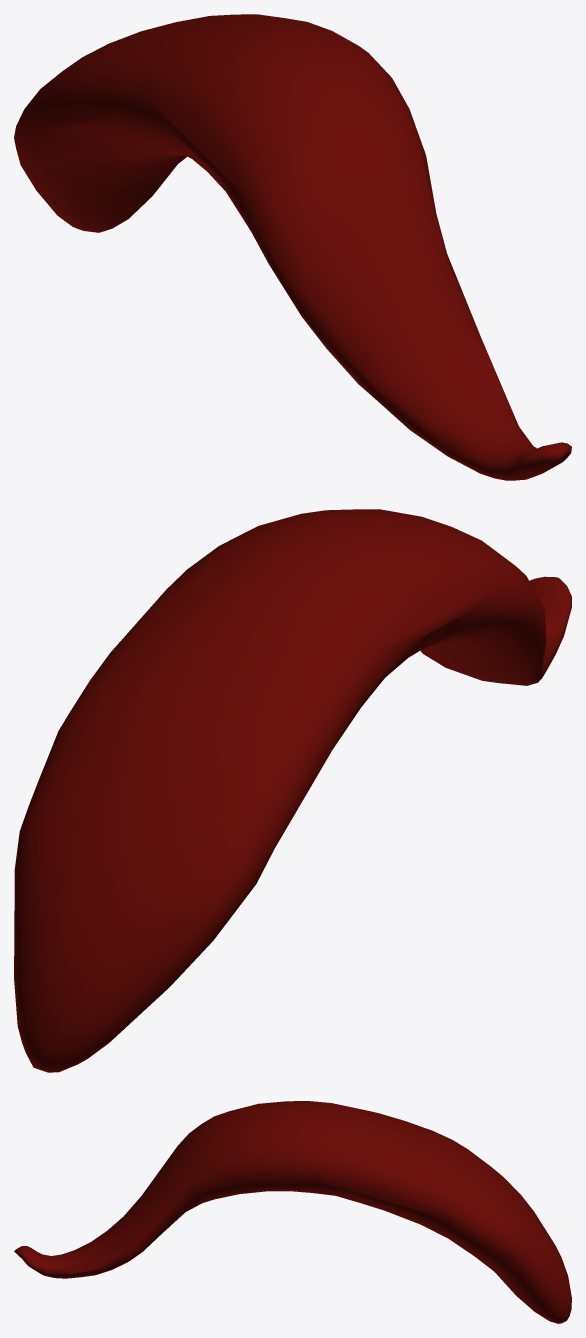
The model's file is tongue.obj.
The picture shows the model from 3 angles, top to bottom: view 1: azimuth 30°, elevation 25°; view 2: azimuth 150°, elevation 25°; view 3: azimuth 270°, elevation 25°; orthographic projection. The views are drawn at different scales.
Visible parts, largest first — view 1: 舌; view 2: 舌; view 3: 舌.
Part boxes in pixels (left/top/right/bottom): 舌: left=14, top=14, right=571, bottom=480; 舌: left=14, top=509, right=571, bottom=1072; 舌: left=14, top=1101, right=571, bottom=1323.
Bounding box in the file's own units: 0.8688 × 1.28 × 3.18.
